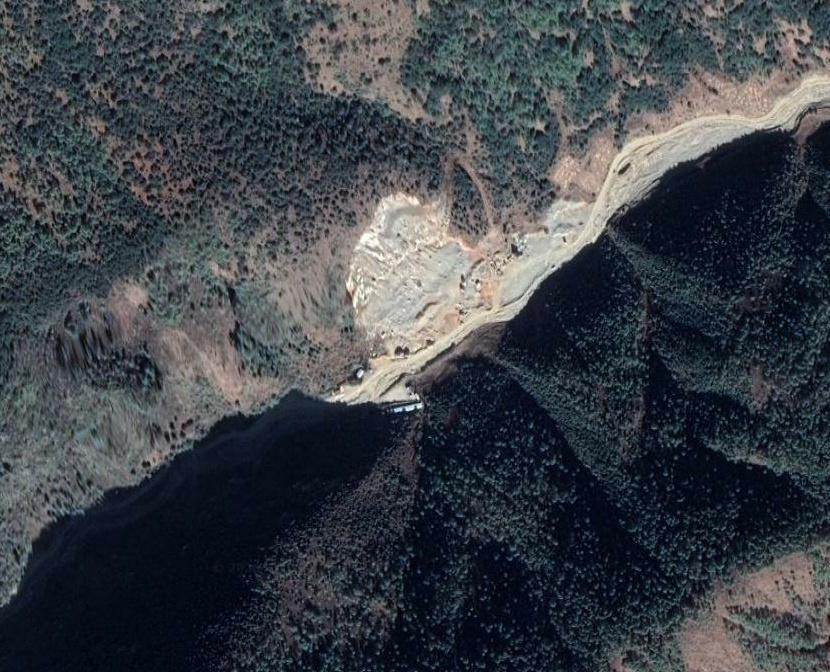slope: (329, 186, 591, 400)
